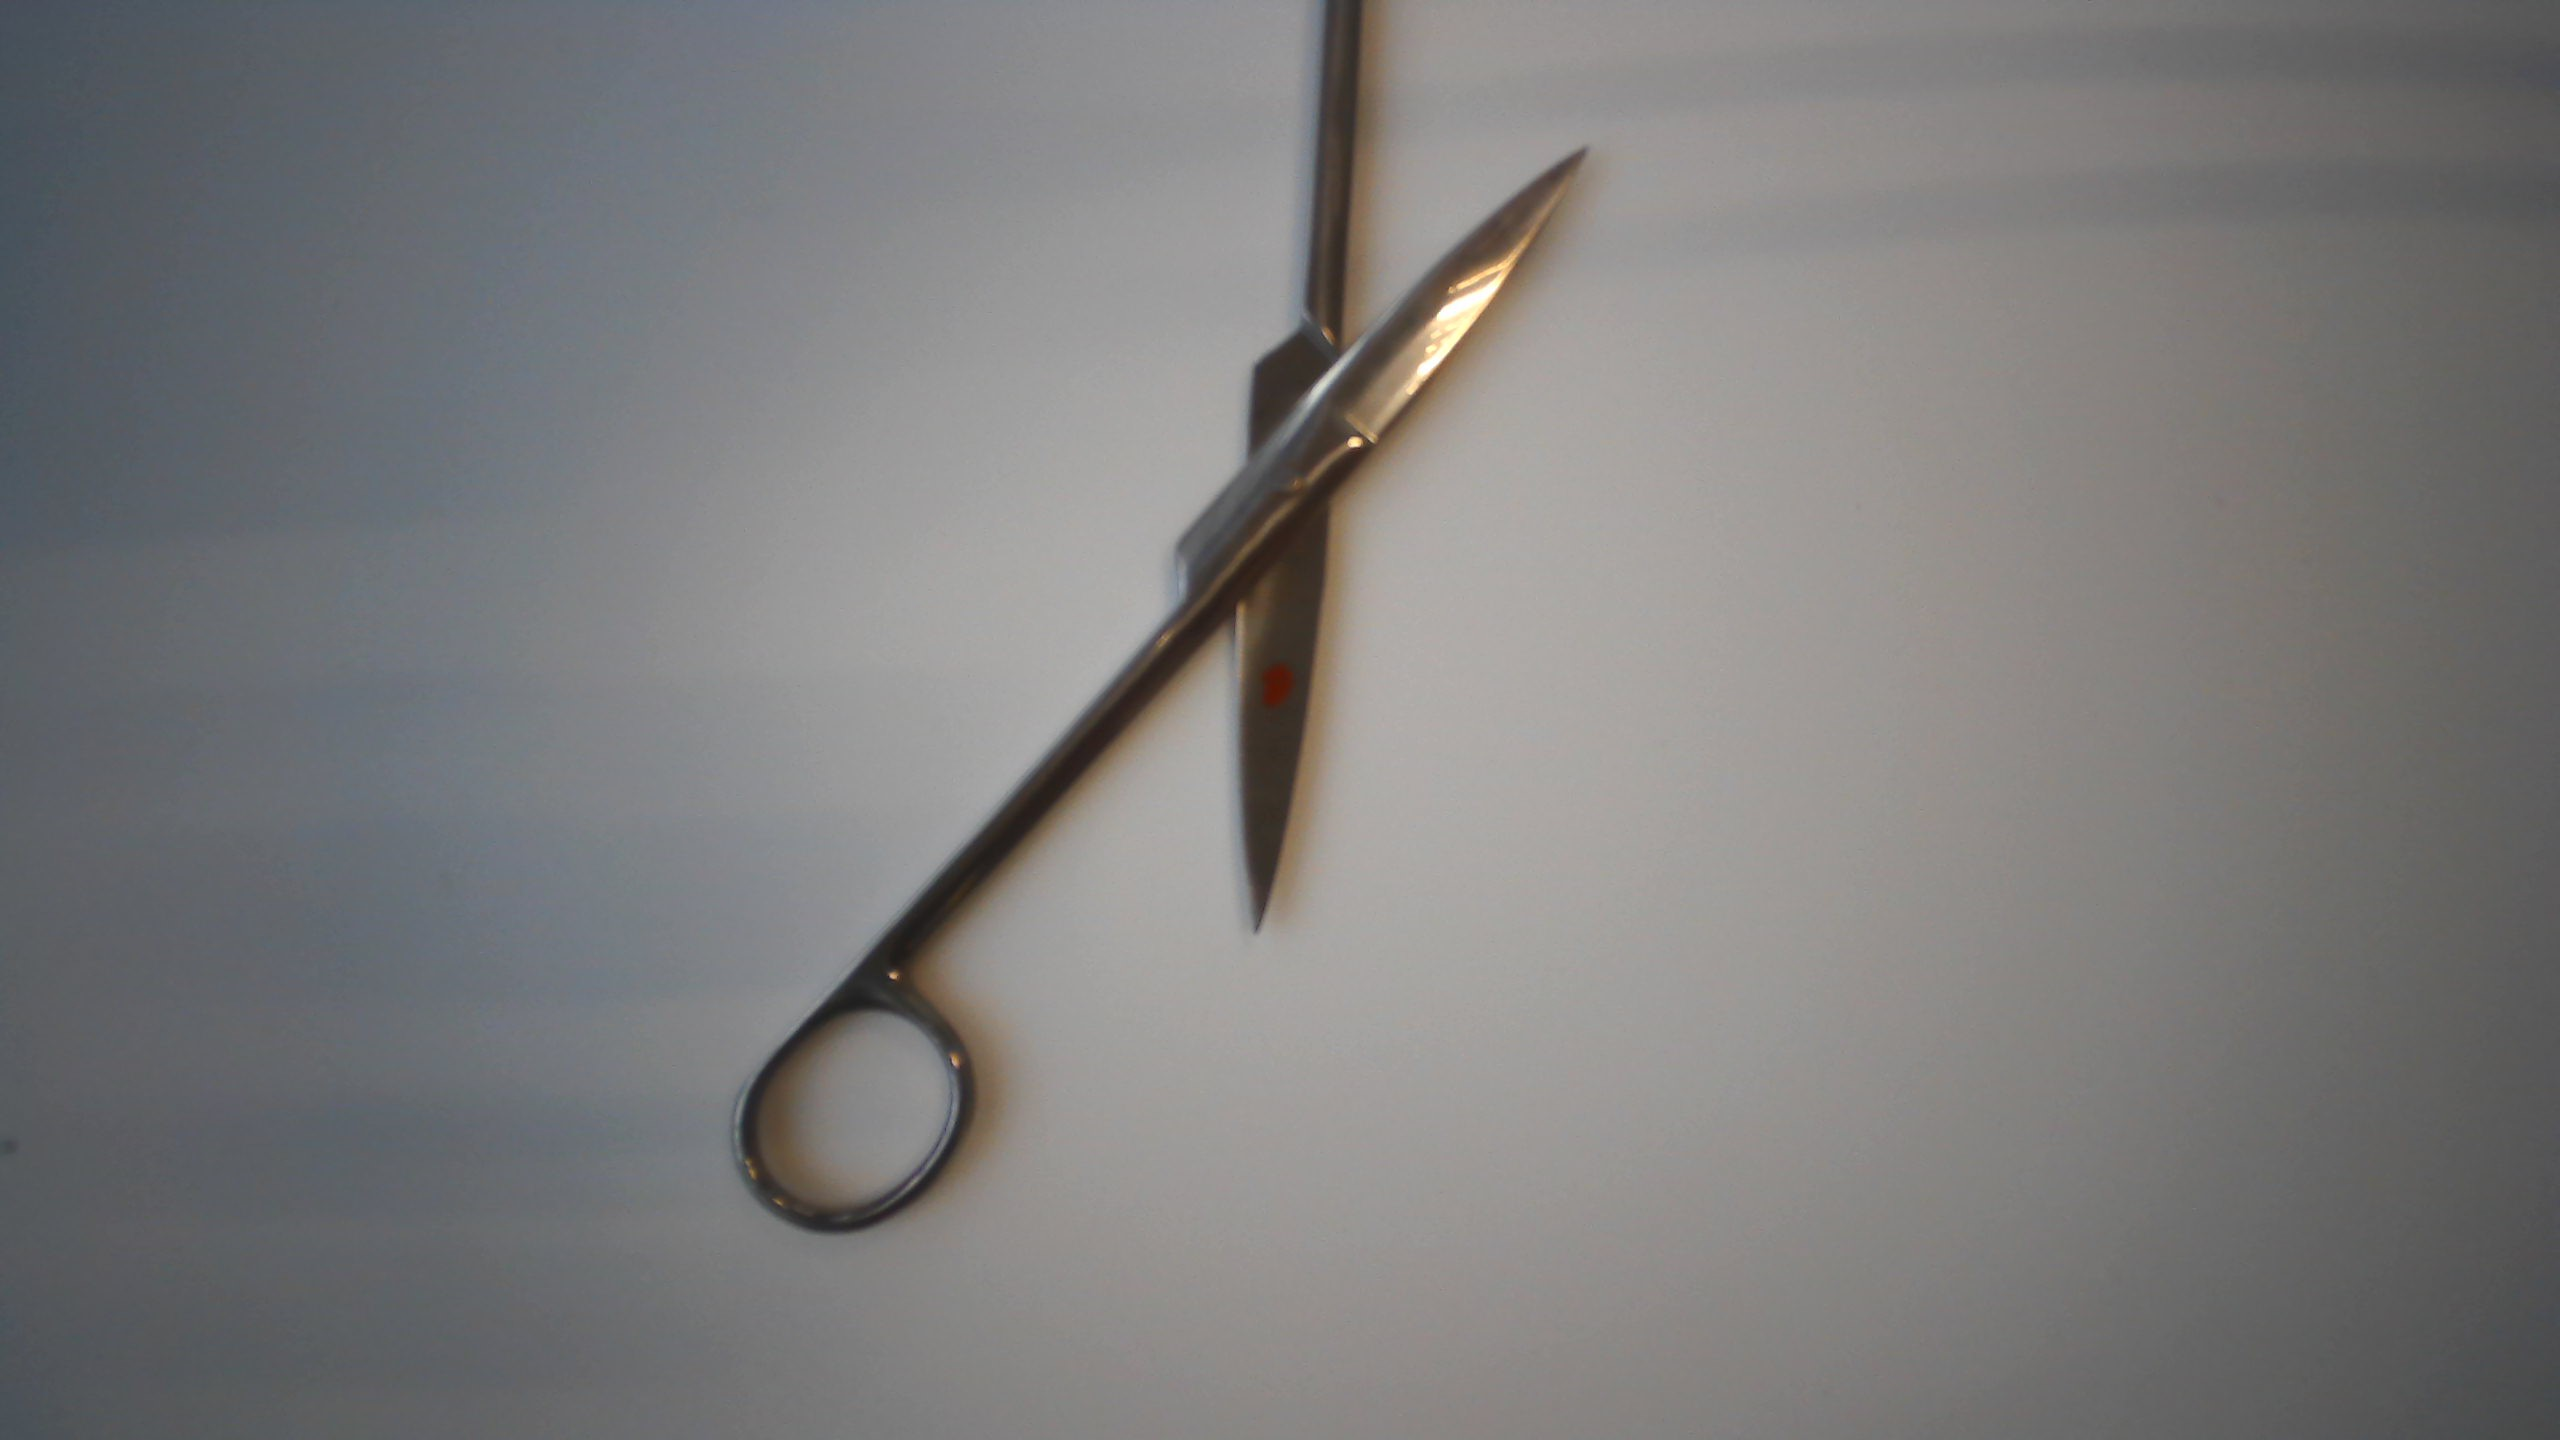Stain: (1254, 654, 1303, 714)
